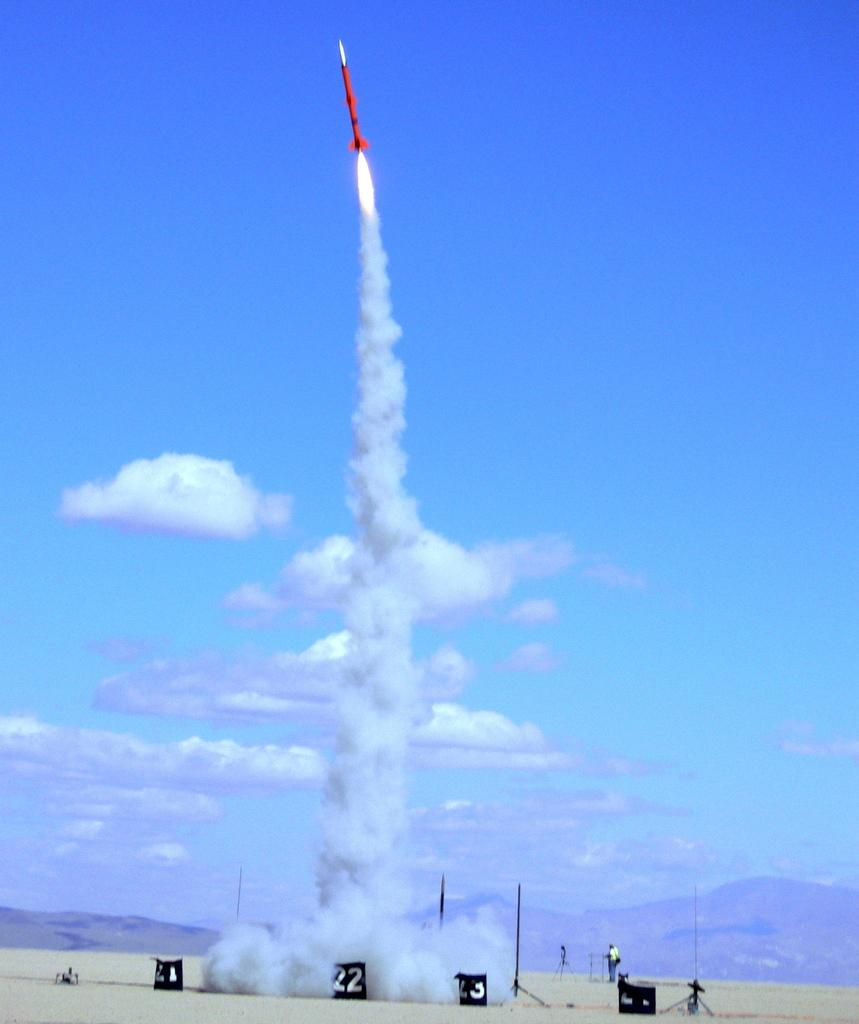Missile: (336, 37, 373, 150)
